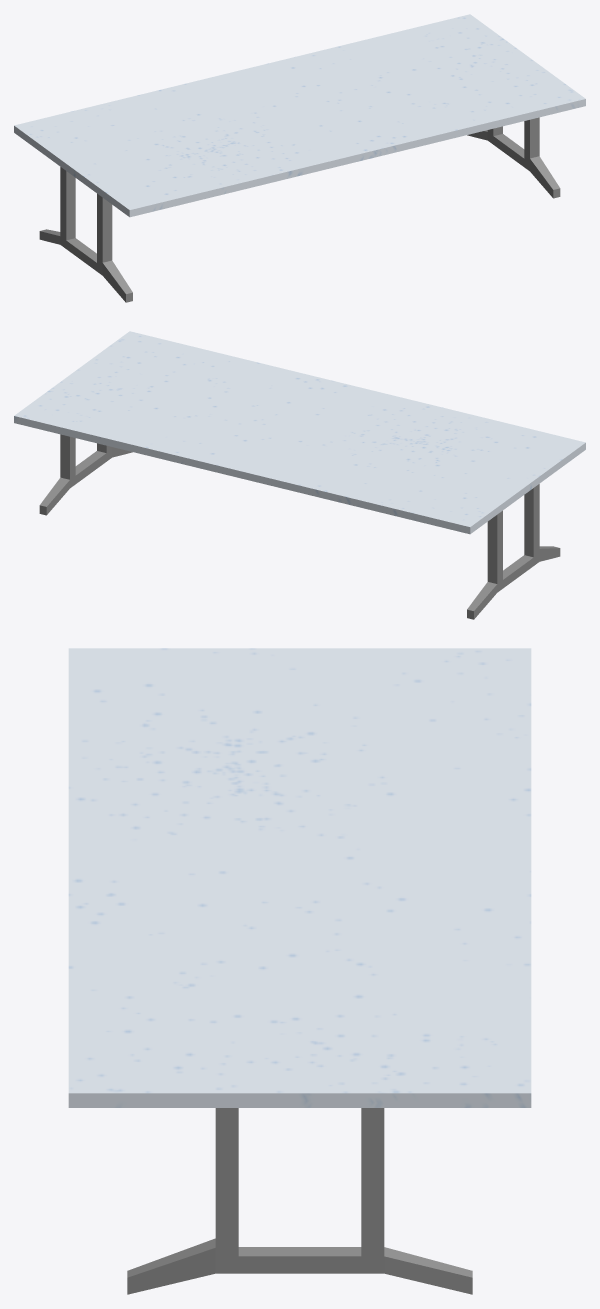
File: table.fbx
3 views of the same model, one above another, from view 1: azimuth 30°, elevation 25°; view 2: azimuth 150°, elevation 25°; view 3: azimuth 270°, elevation 25° (orthographic). The views are drawn at different scales.
Parts seen in each view (by area): view 1: Cube, Cube.001; view 2: Cube, Cube.001; view 3: Cube, Cube.001.
Part boxes in pixels (<box>): Cube: <box>14,14,585,217</box>; Cube.001: <box>39,117,560,302</box>; Cube: <box>14,331,585,534</box>; Cube.001: <box>39,434,560,619</box>; Cube: <box>68,648,531,1107</box>; Cube.001: <box>127,1108,472,1294</box>.
Bounding box in the file's own units: 525 × 117 × 231.
